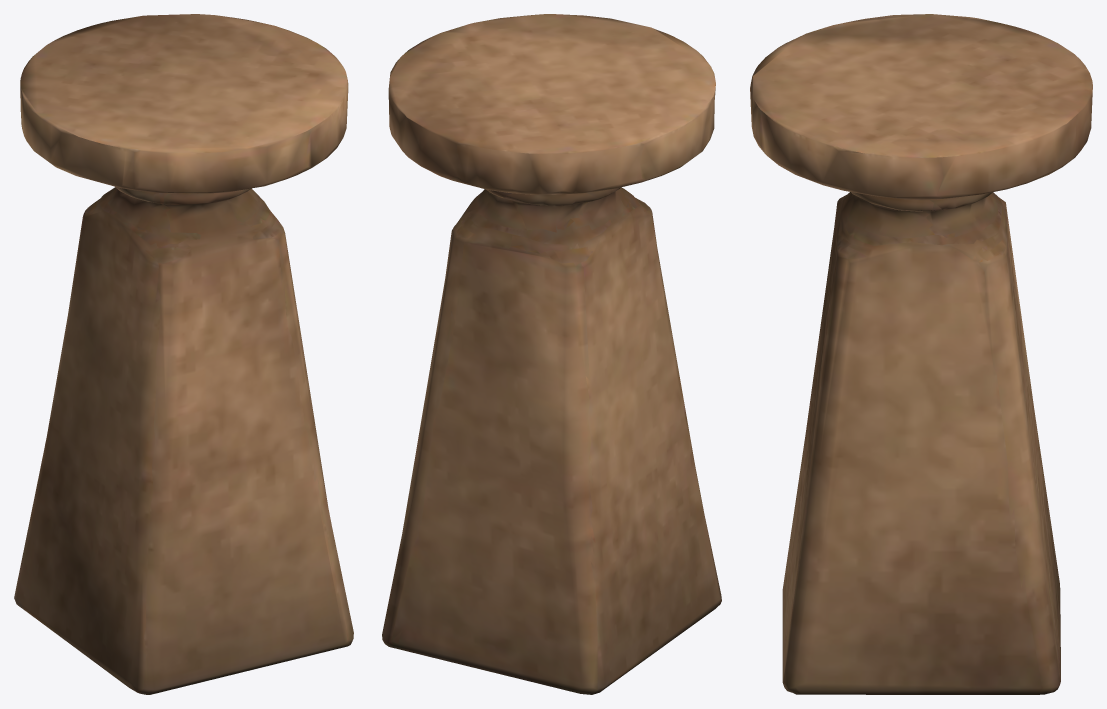
Rendered from weathered-sandstone-pedestal-v001.glb.
3 renders of one model, left to right at view 1: azimuth 30°, elevation 25°; view 2: azimuth 150°, elevation 25°; view 3: azimuth 270°, elevation 25°, orthographic. The views are drawn at different scales.
Visible parts, largest first — view 1: weathered-sandstone-pedestal; view 2: weathered-sandstone-pedestal; view 3: weathered-sandstone-pedestal.
Boxes of the visible parts, x1,y1,x2,y2 form: weathered-sandstone-pedestal: (14, 14, 353, 694); weathered-sandstone-pedestal: (382, 14, 721, 694); weathered-sandstone-pedestal: (750, 14, 1092, 694).
Size of the model in its own units: 0.385 by 0.6995 by 0.3886.
1 material, 1 textured.
